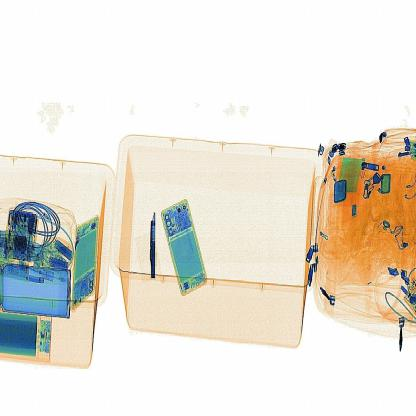pliers: (143, 200, 165, 277)
